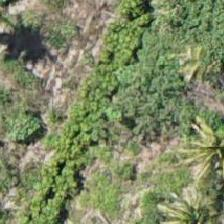coconut_tree: (162, 10, 223, 100), (173, 105, 223, 195)
